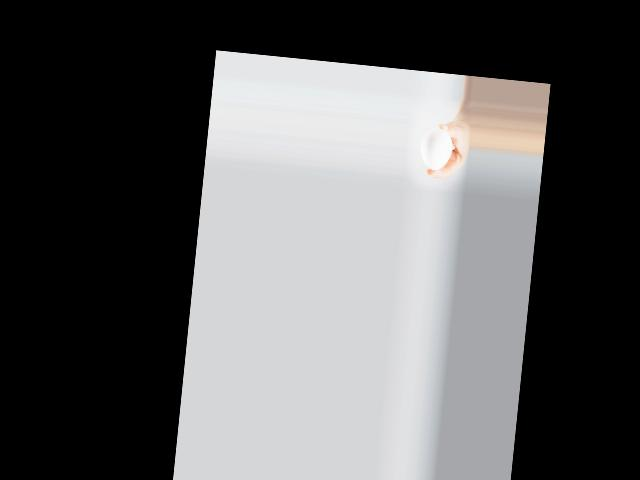egg: (419, 127, 452, 172)
